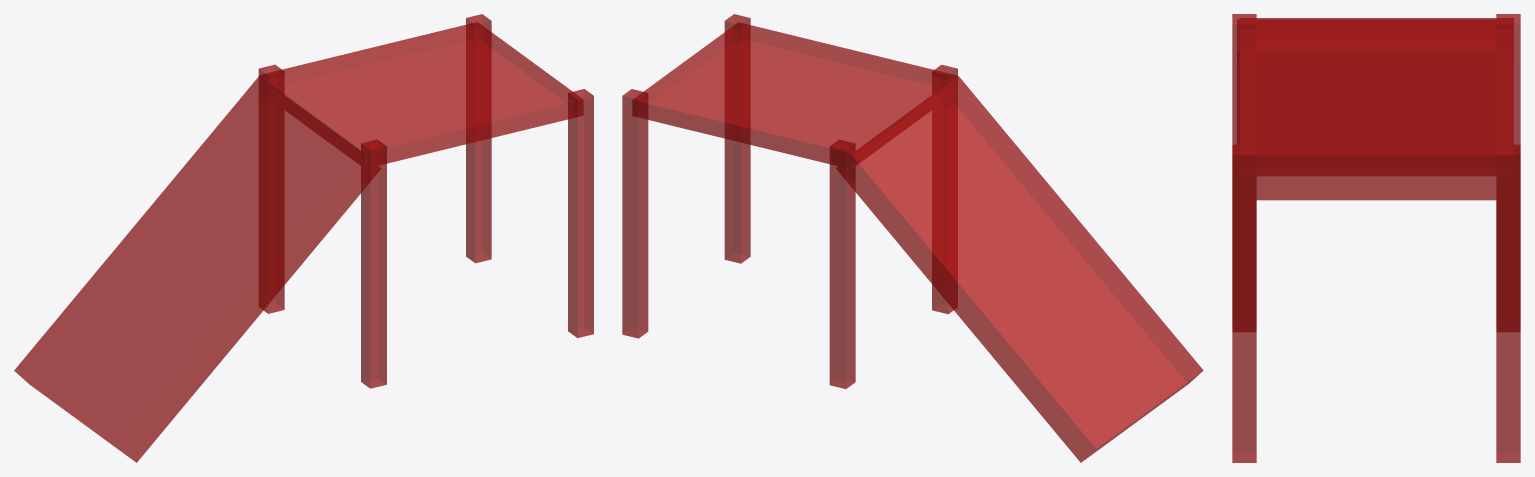
The model's file is SM_Bld_Stairs_Wood_Straight_02_Collision.fbx.
The picture shows the model from 3 angles, left to right: view 1: azimuth 30°, elevation 25°; view 2: azimuth 150°, elevation 25°; view 3: azimuth 270°, elevation 25°; orthographic projection. The views are drawn at different scales.
Visible parts, largest first — view 1: SM_Bld_Stairs_Wood_Straight_02_Collision; view 2: SM_Bld_Stairs_Wood_Straight_02_Collision; view 3: SM_Bld_Stairs_Wood_Straight_02_Collision.
Part boxes in pixels (x1,y1,x2,y2): SM_Bld_Stairs_Wood_Straight_02_Collision: [14, 14, 593, 462]; SM_Bld_Stairs_Wood_Straight_02_Collision: [622, 14, 1203, 462]; SM_Bld_Stairs_Wood_Straight_02_Collision: [1232, 14, 1520, 462].
Size of the model in its own units: 533 by 278 by 219.
